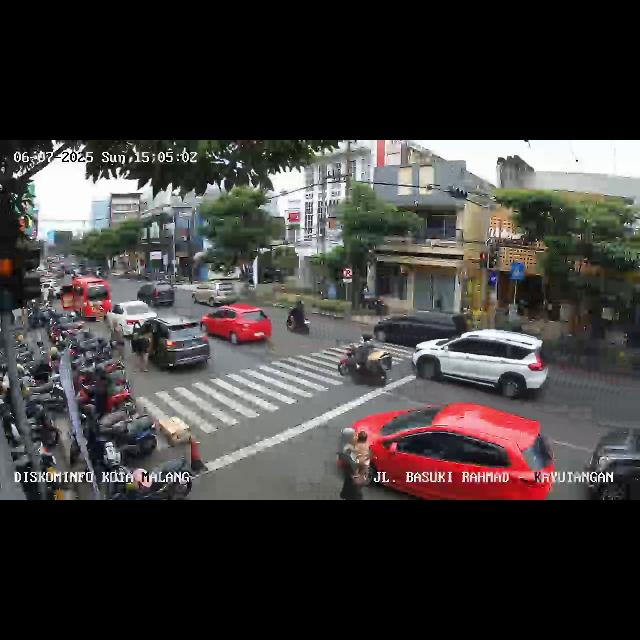car: (346, 404, 552, 500), (414, 328, 548, 404), (130, 317, 212, 375), (584, 417, 640, 499), (372, 307, 470, 349), (203, 304, 273, 352), (58, 277, 110, 323), (106, 300, 158, 336), (192, 280, 240, 308), (136, 282, 176, 310)
motorcycle: (334, 329, 400, 388), (286, 300, 310, 336)
